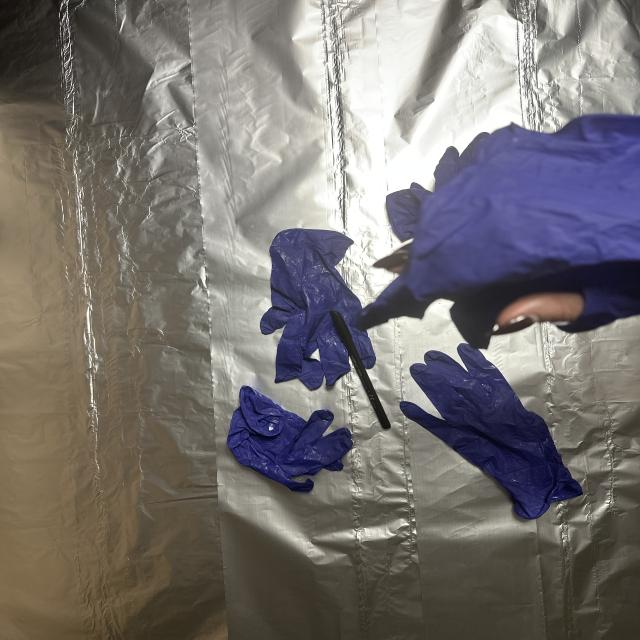glove_not_fitted: (376, 124, 640, 338)
